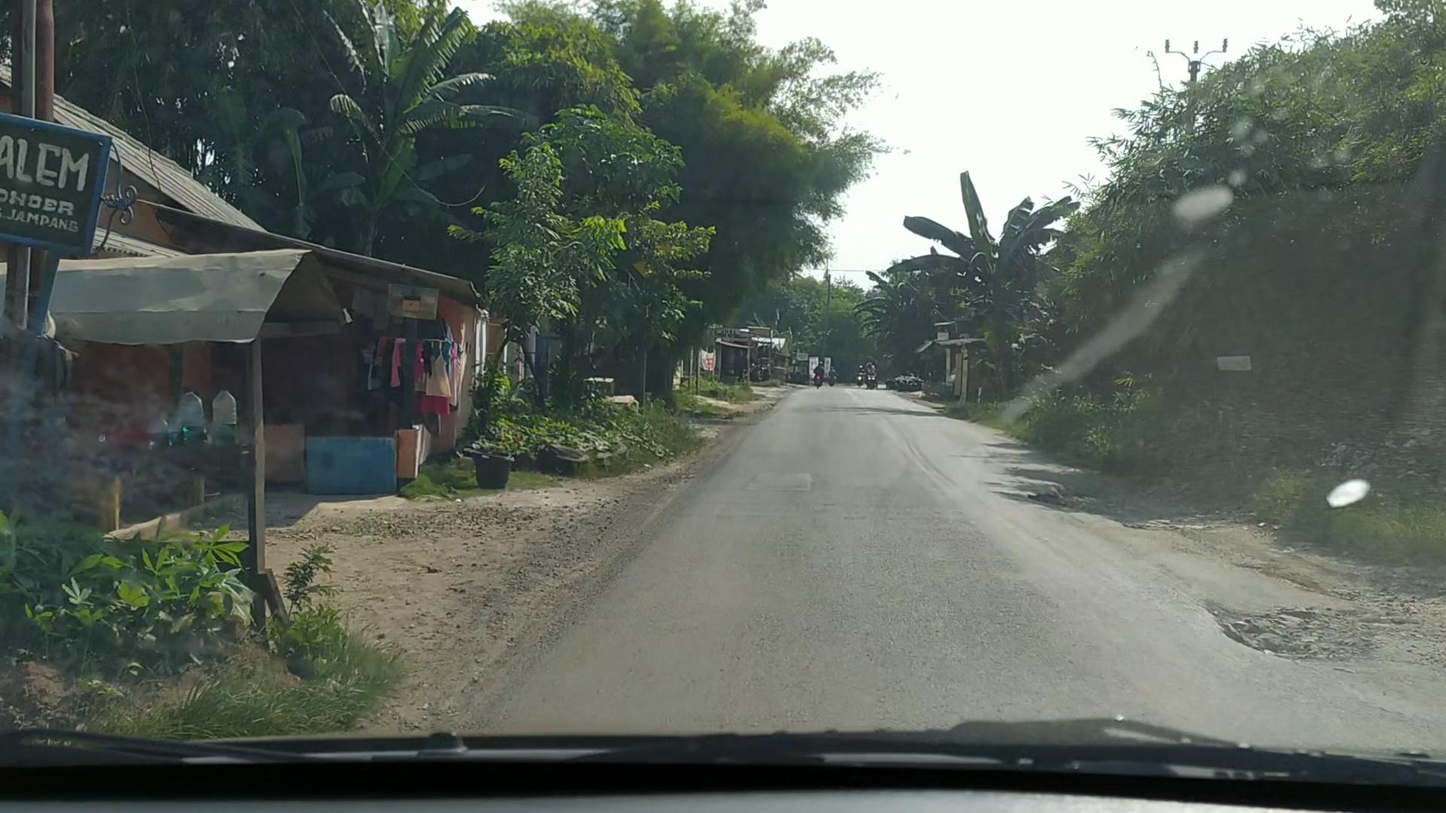pothole: (1208, 596, 1377, 663), (1026, 488, 1163, 525)
